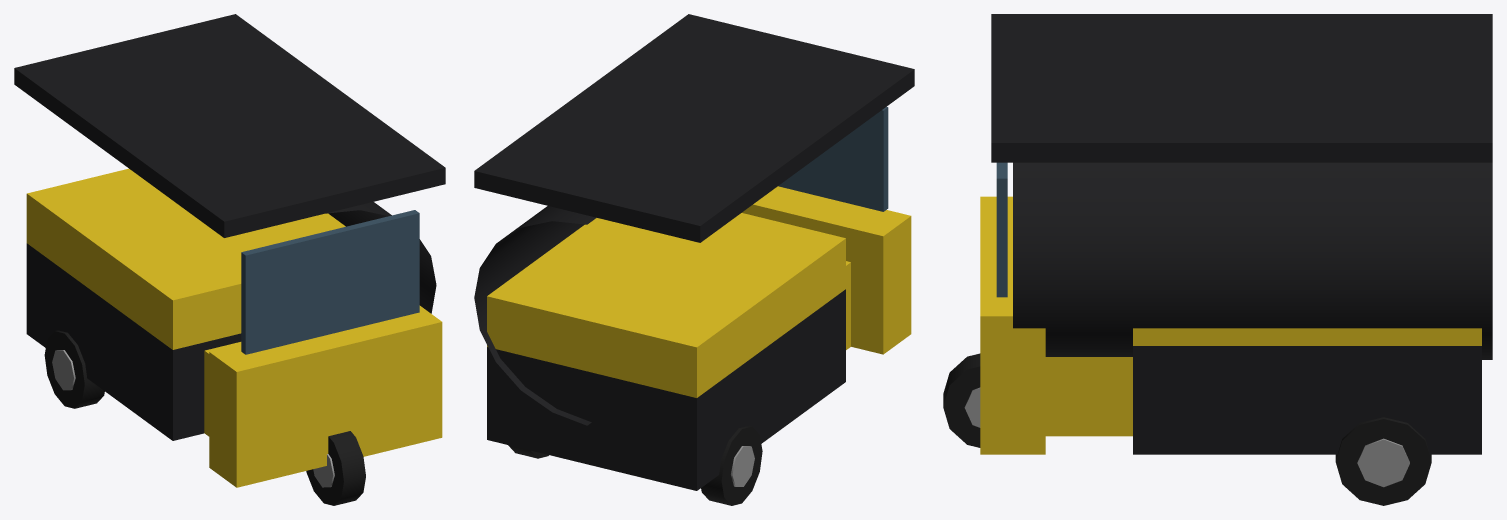
Rendered from auto_rickshaw.glb.
3 views of the same model, side by side, from view 1: azimuth 30°, elevation 25°; view 2: azimuth 150°, elevation 25°; view 3: azimuth 270°, elevation 25° (orthographic). The views are drawn at different scales.
Parts seen in each view (by area): view 1: auto_rickshaw, wheel_F, wheel_RL; view 2: auto_rickshaw, wheel_RL; view 3: auto_rickshaw, wheel_RR, wheel_F.
Boxes of the visible parts, x1,y1,x2,y2 form: auto_rickshaw: (14, 14, 445, 487); wheel_F: (306, 431, 365, 505); wheel_RL: (44, 330, 104, 408); auto_rickshaw: (474, 14, 914, 490); wheel_RL: (701, 426, 762, 505); auto_rickshaw: (980, 14, 1492, 454); wheel_RR: (1335, 417, 1431, 505); wheel_F: (943, 353, 980, 447).
Size of the model in its own units: 1.4 by 1.85 by 2.52.
